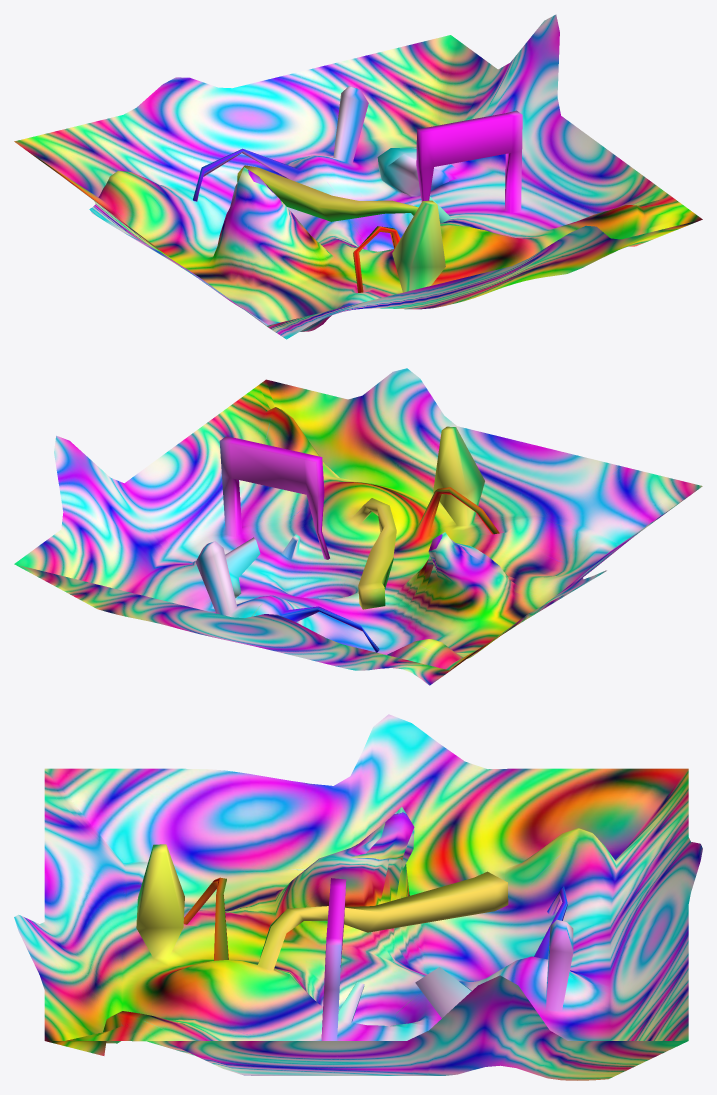
Rendered from playground.glb.
3 renders of one model, top to bottom at view 1: azimuth 30°, elevation 25°; view 2: azimuth 150°, elevation 25°; view 3: azimuth 270°, elevation 25°, orthographic. The views are drawn at different scales.
Parts seen in each view (by area): view 1: ground; view 2: ground; view 3: ground.
Boxes of the visible parts, x1,y1,x2,y2 form: ground: [14, 14, 702, 339]; ground: [14, 368, 702, 685]; ground: [14, 714, 702, 1080].
Bounding box in the file's own units: 100 × 31.77 × 92.13.
1 material, 1 textured.
